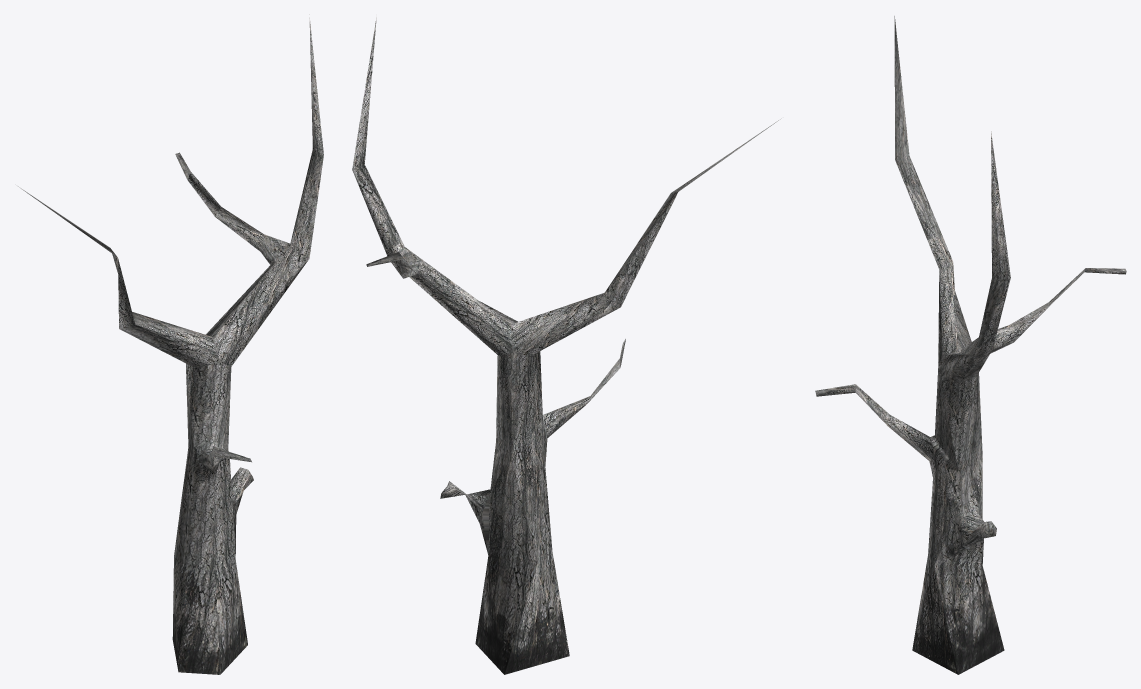
File: TreeBig3_LOD2.FBX
The picture shows the model from 3 angles, left to right: view 1: azimuth 30°, elevation 25°; view 2: azimuth 150°, elevation 25°; view 3: azimuth 270°, elevation 25°; orthographic projection. The views are drawn at different scales.
Parts seen in each view (by area): view 1: objdefault; view 2: objdefault; view 3: objdefault.
Boxes of the visible parts, x1,y1,x2,y2 form: objdefault: [18, 14, 323, 674]; objdefault: [352, 17, 781, 674]; objdefault: [815, 16, 1126, 674].
Bounding box in the file's own units: 441 × 702 × 341.
Materials: 1 (1 with a texture image).
